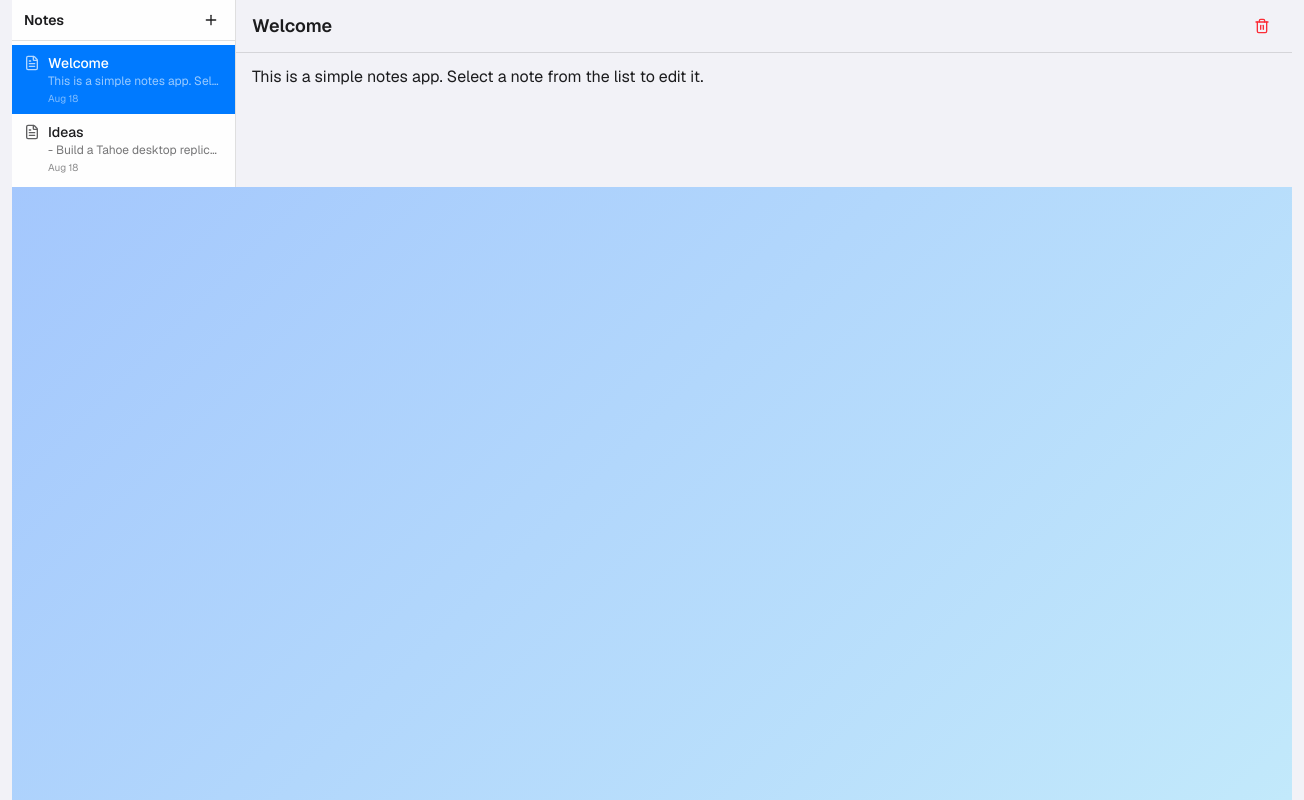
Test: Notes › adds a new note
This screenshot has width=1304, height=800.
Click the button with test id "notes-new": (211, 20) [199,8,223,32]
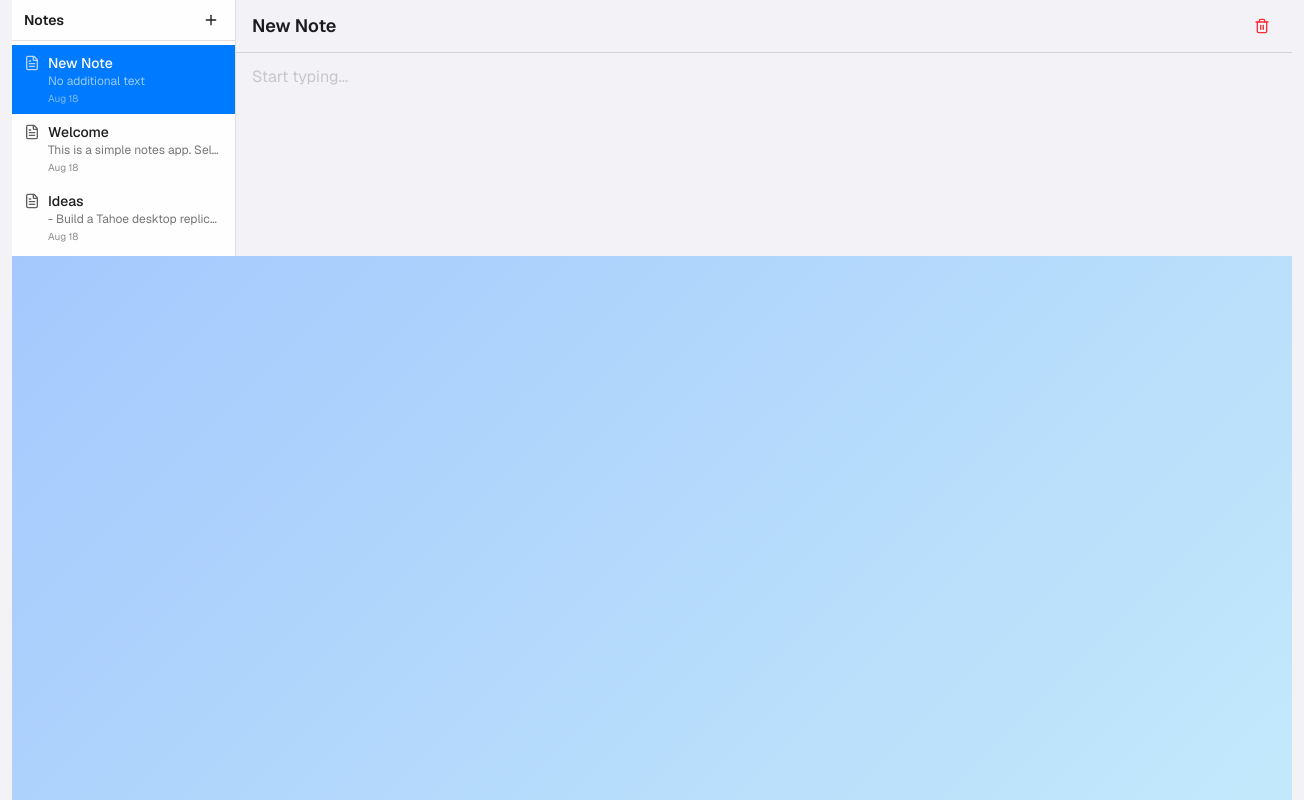
Expected: the field with test id "notes-title" holds "New Note", [252,12,1240,40]
